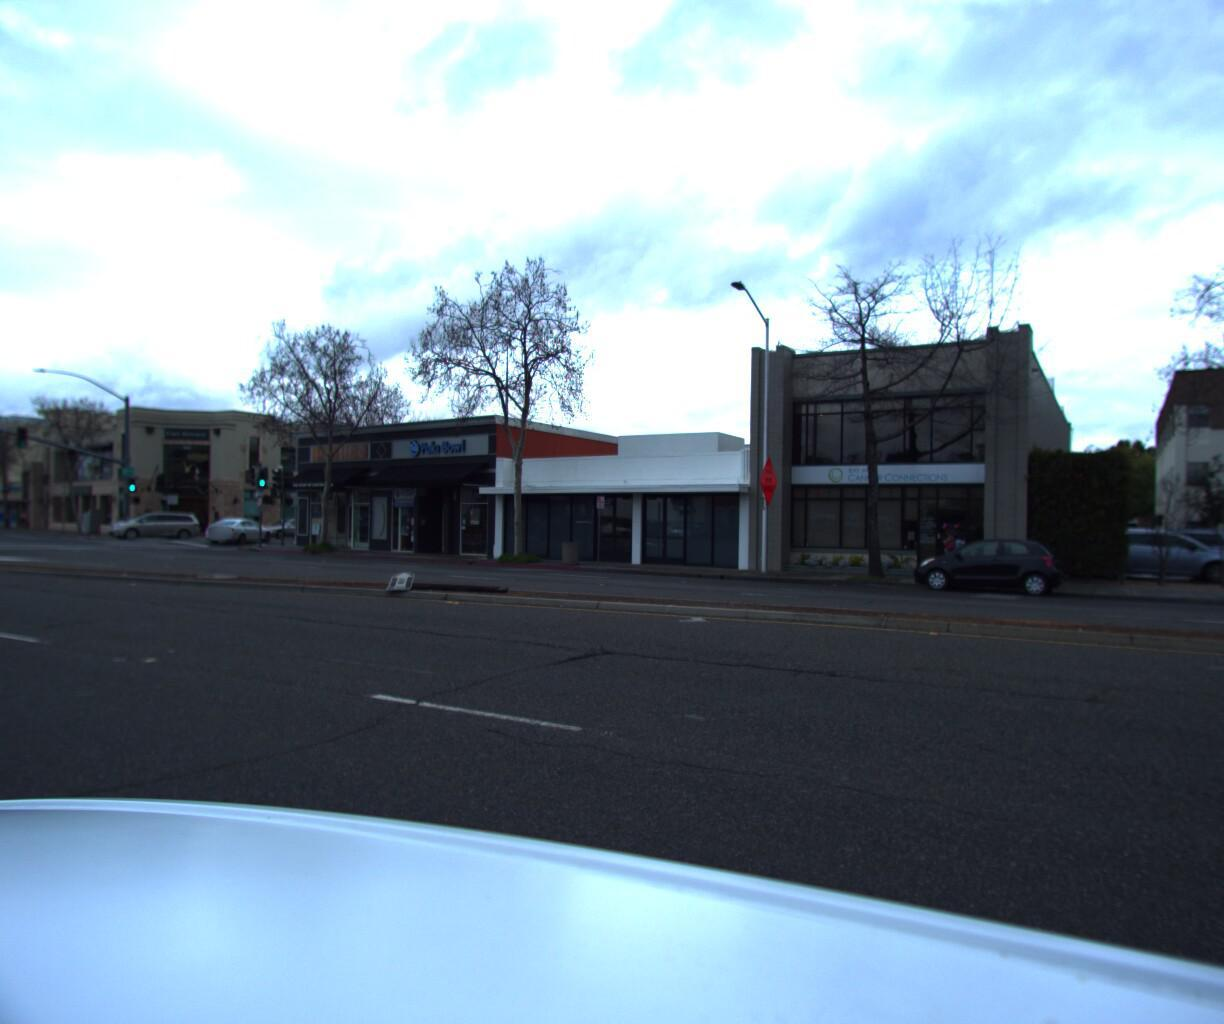car: (896, 541, 1070, 610), (1073, 529, 1224, 597), (1082, 530, 1224, 594), (106, 513, 201, 541), (204, 521, 281, 548), (244, 517, 325, 542)
